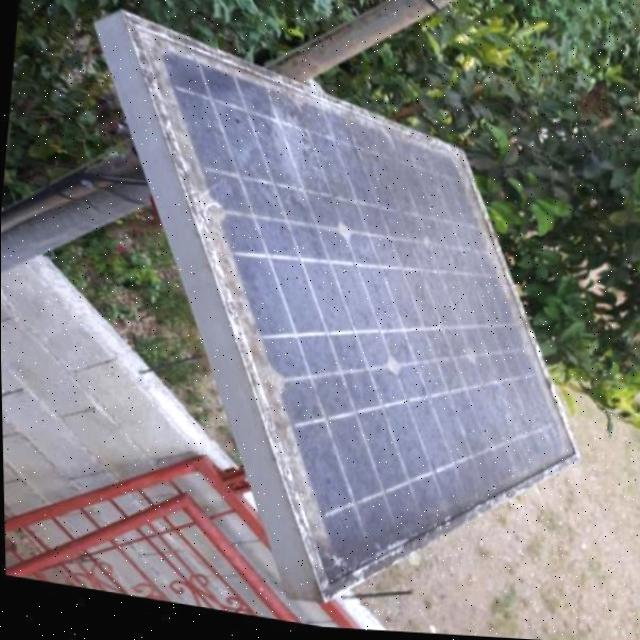Surface Contaminant: (141, 34, 577, 592)
